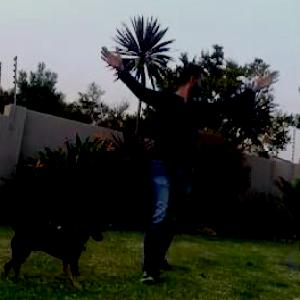takeoff: (100, 47, 269, 259)
